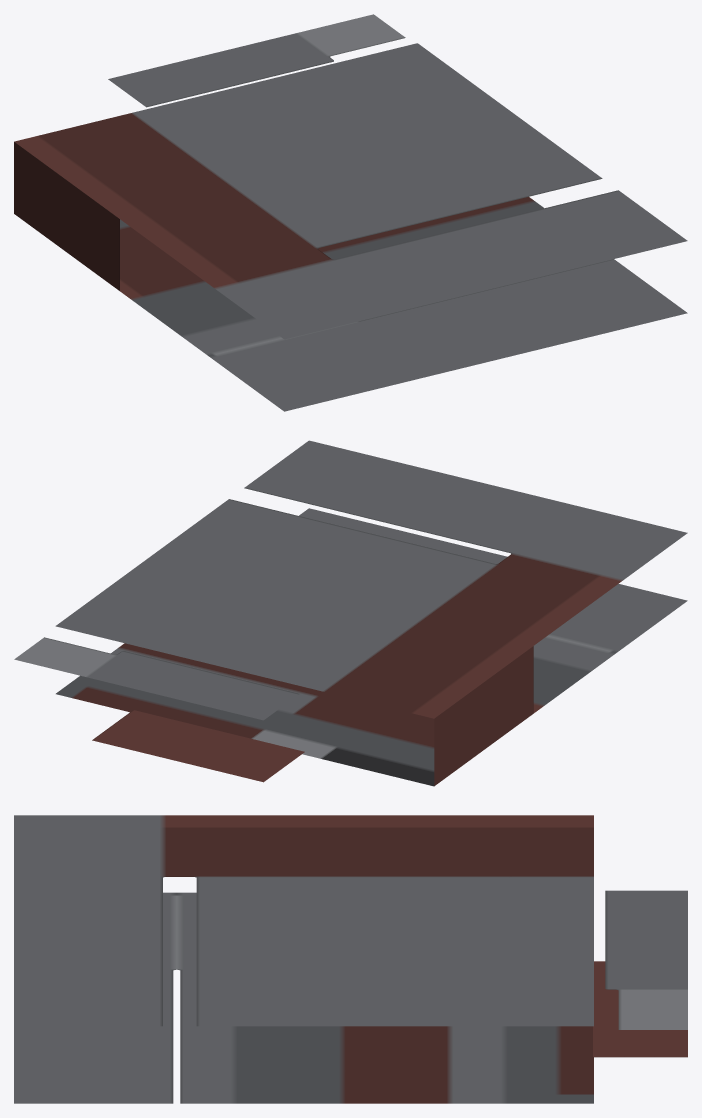
The model's file is section-0.obj.
3 views of the same model, one above another, from view 1: azimuth 30°, elevation 25°; view 2: azimuth 150°, elevation 25°; view 3: azimuth 270°, elevation 25° (orthographic). The views are drawn at different scales.
Size of the model in its own units: 1.06 by 0.1815 by 1.43.
